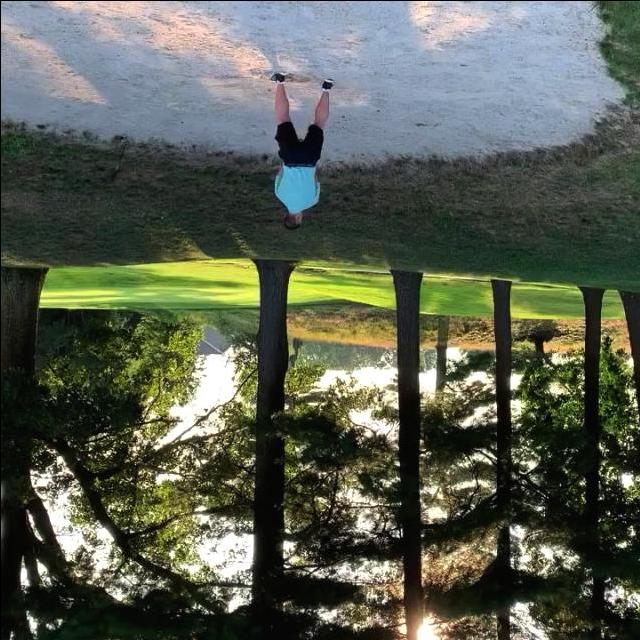golf ball: (288, 94, 293, 99)
